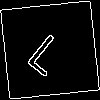L: (25, 25, 75, 78)
